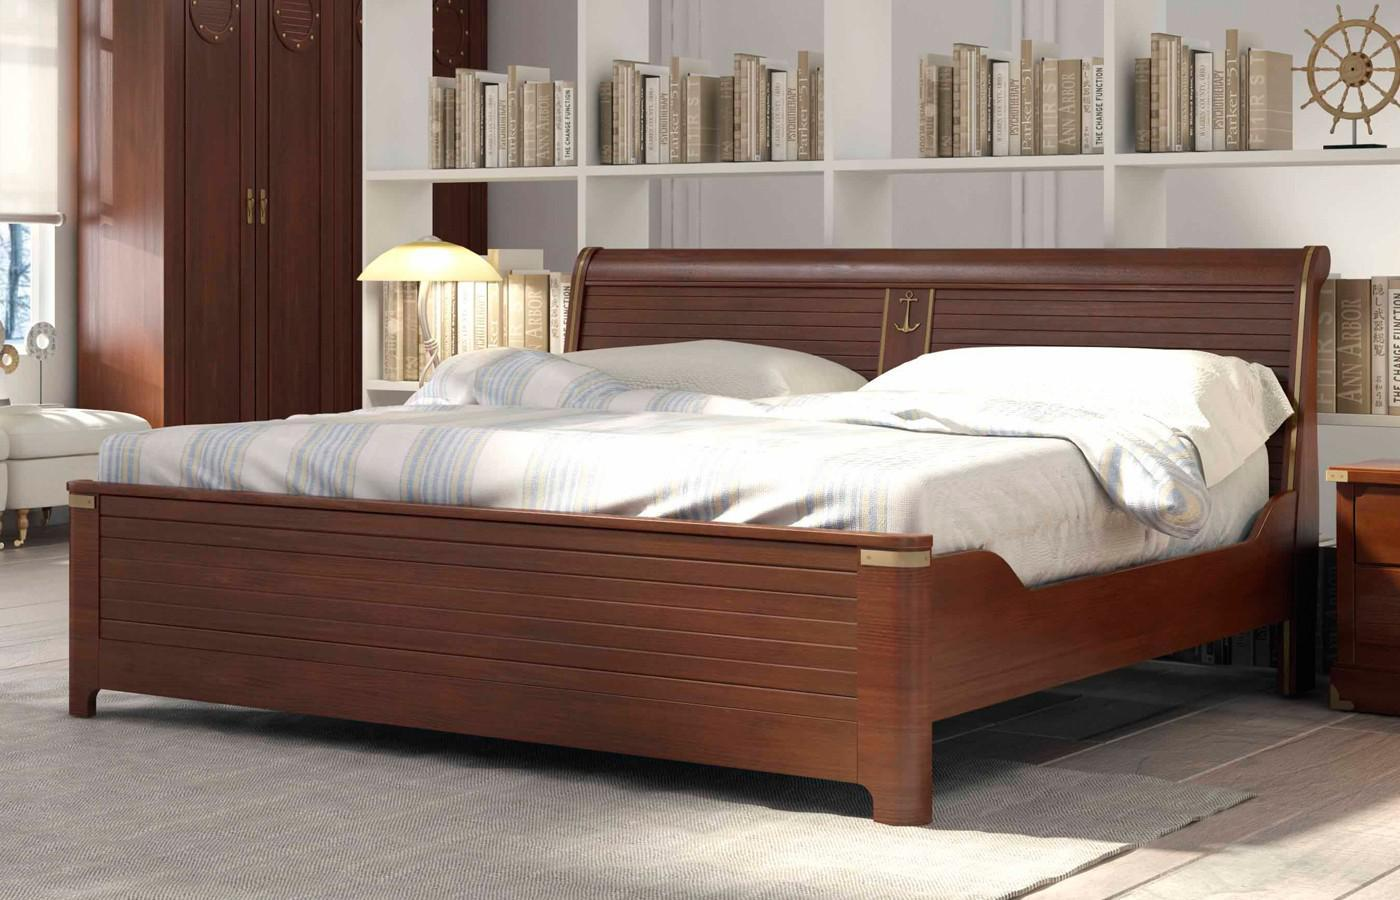bed: (246, 310, 1244, 720)
